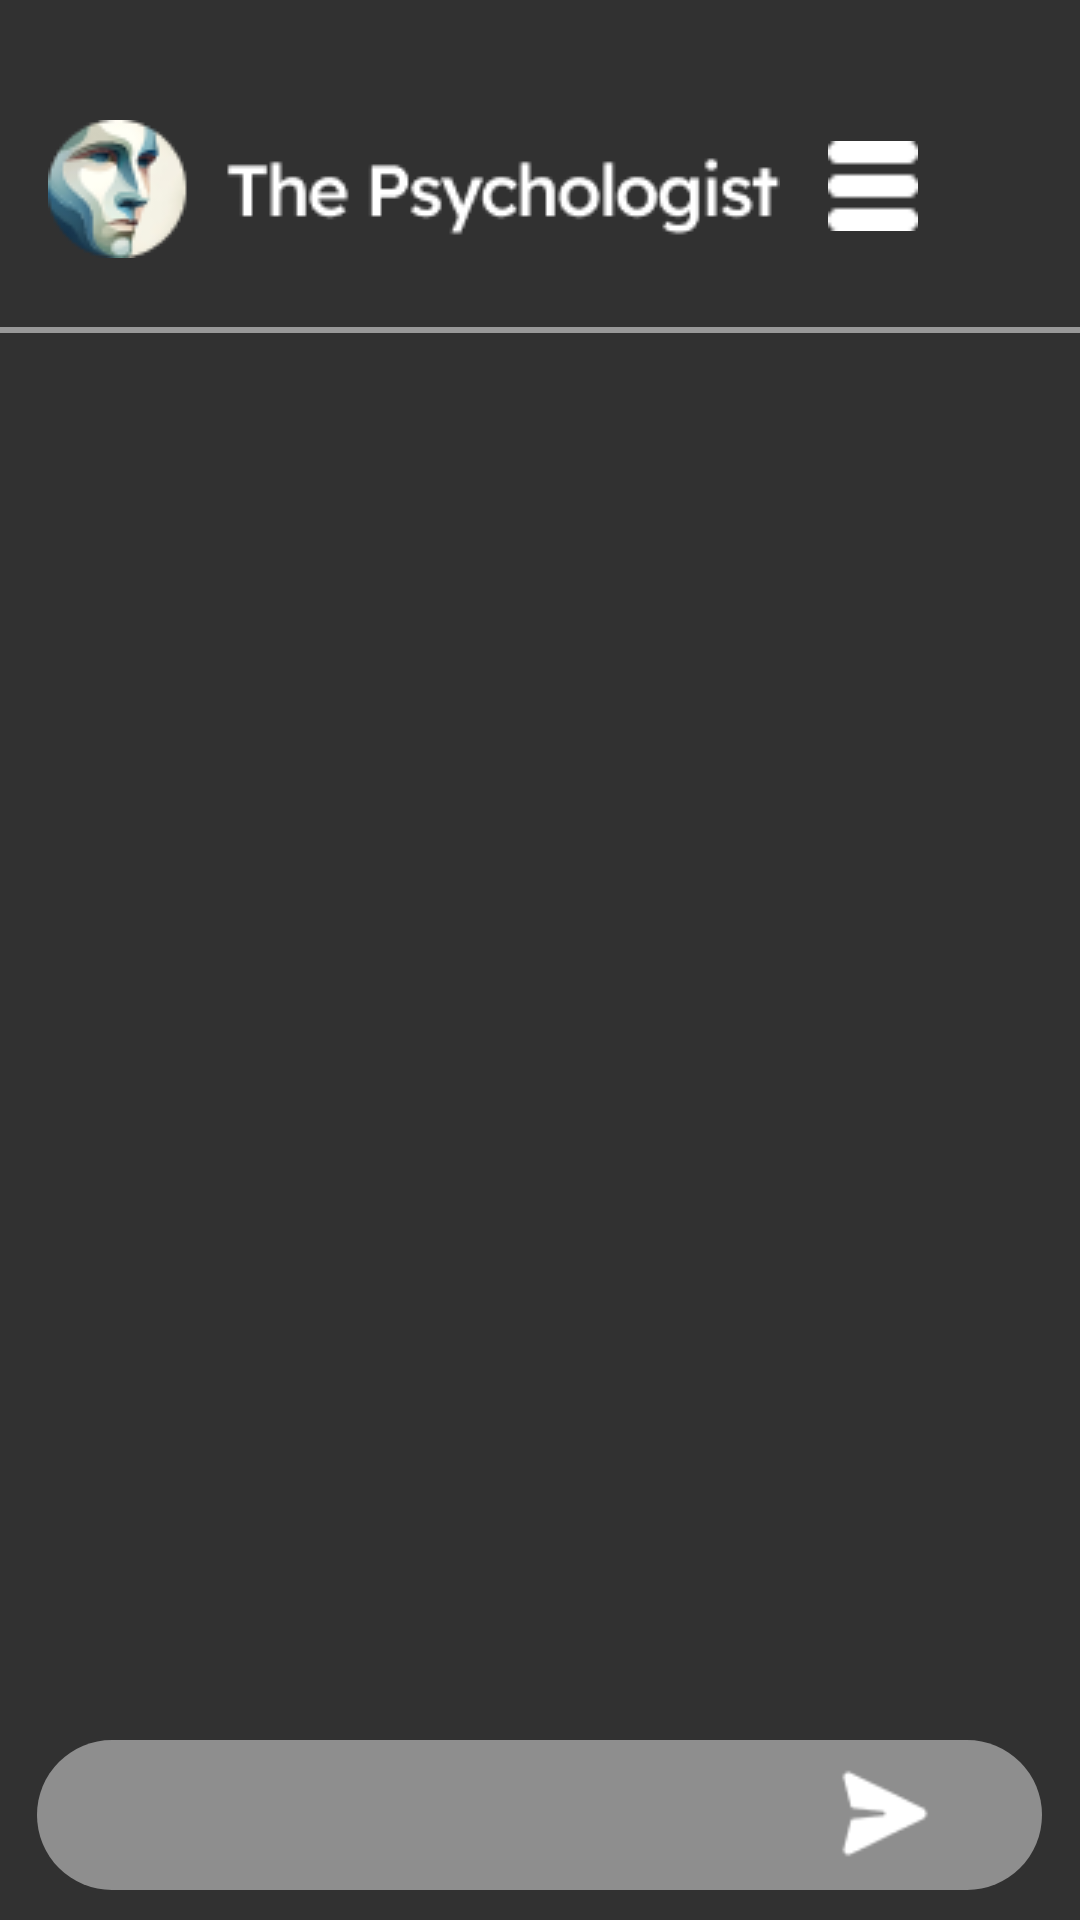

Icon click points for this 1080w x 1920h phone screenshot, format point (x, y):
burger: point (873, 186)
send: point (885, 1813)
